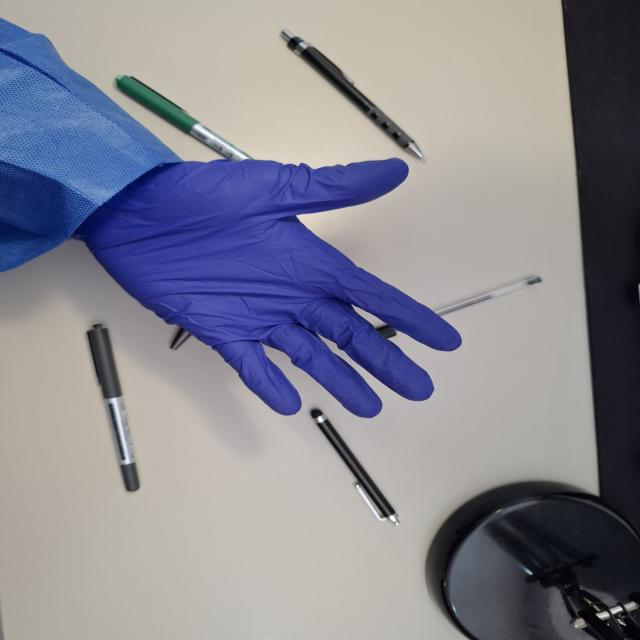glove_on: (64, 146, 468, 423)
